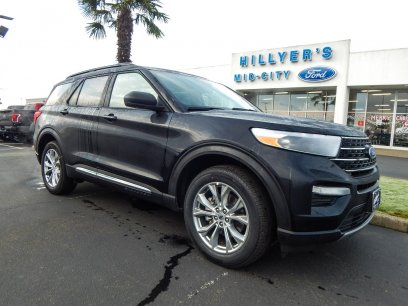Ford Explorer: (31, 62, 385, 270)
